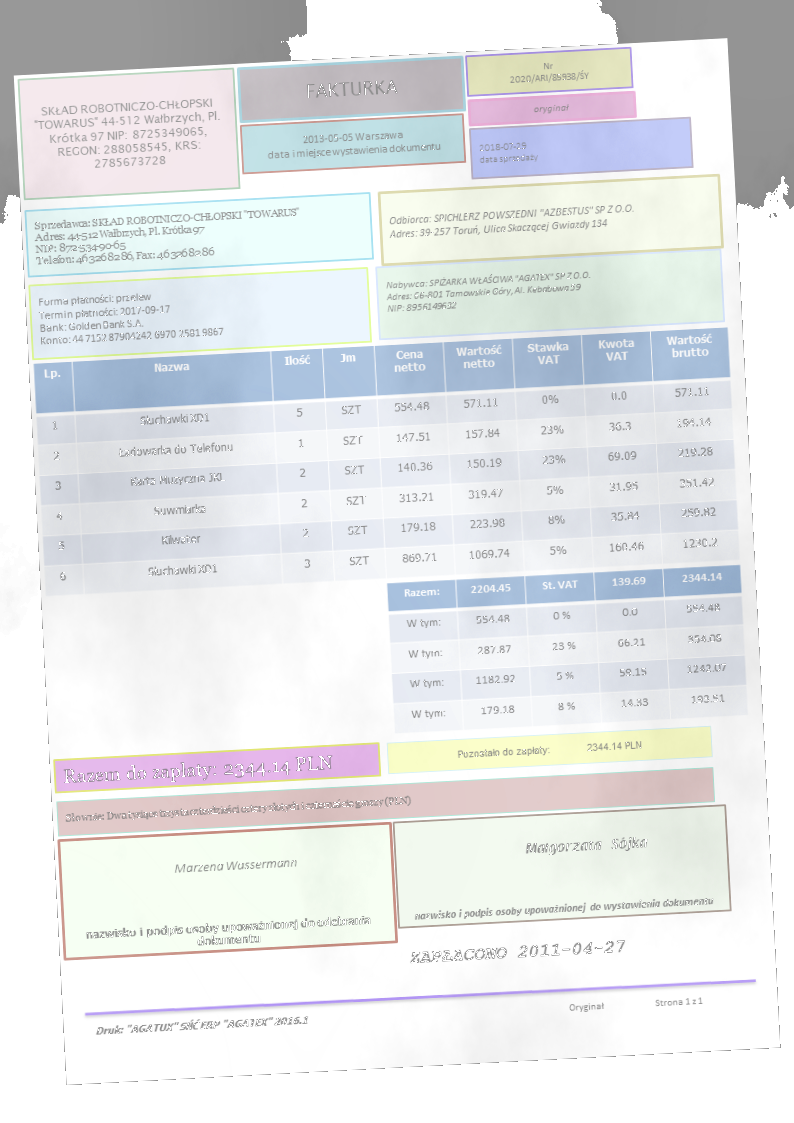Table: (31, 326, 742, 599), (385, 563, 749, 735)
TextBox: (31, 204, 303, 270), (31, 94, 225, 175), (63, 791, 413, 828), (82, 911, 375, 954), (60, 746, 335, 789), (35, 285, 225, 347), (385, 199, 637, 244), (382, 266, 594, 317), (412, 892, 716, 923), (407, 937, 627, 968), (265, 126, 442, 161), (94, 1011, 310, 1037), (453, 735, 645, 763), (565, 991, 707, 1016), (170, 853, 301, 878), (522, 832, 649, 857), (507, 55, 592, 87), (302, 75, 401, 102), (477, 137, 539, 167), (531, 100, 571, 117)
